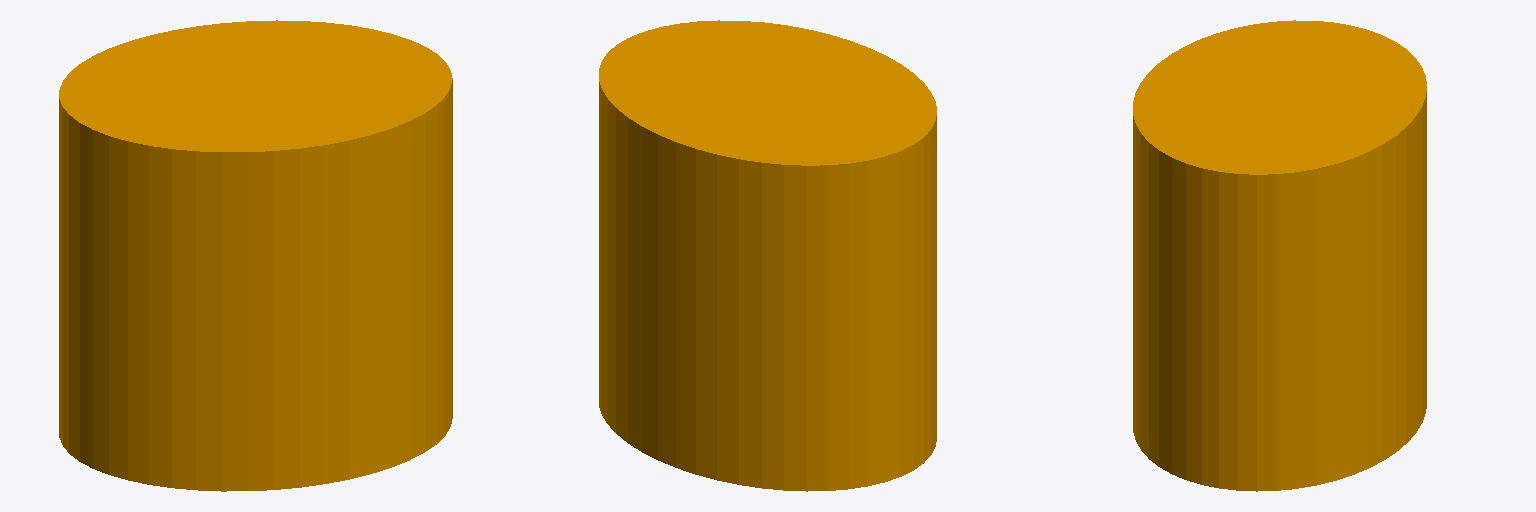
URDF robot description (object):
<?xml version="1.0"?>
<robot name="object">
  <link name="object">
    <visual>
      <origin xyz="0 0 0"/>
      <geometry>
        <mesh filename="meshes/generated/col_124.obj" scale="0.03 0.03 0.03"/>
      </geometry>
    </visual>
    <collision>
      <origin xyz="0 0 0"/>
      <geometry>
        <mesh filename="meshes/generated/col_124.obj" scale="0.03 0.03 0.03"/>
      </geometry>
    </collision>
    <inertial>
      <density value="1000.0"/>
    </inertial>
  </link>
</robot>

--- What the picture shows (computed from the rendered views, not written in the file) ---
3 views of the same robot in one strip: view 1: azimuth 30°, elevation 25°; view 2: azimuth 150°, elevation 25°; view 3: azimuth 270°, elevation 25° (orthographic).
Robot: object — 1 links, 0 joints (none); root link object; default pose: all joints at 0.
Visible links, largest first — view 1: object; view 2: object; view 3: object.
Boxes of the visible links, box(x1,y1,x2,y2) form: object: box(59, 20, 452, 491); object: box(599, 20, 936, 491); object: box(1133, 20, 1426, 491).
Size in the robot's own frame: 0.0627 by 0.0505 by 0.06 metres.
Meshes: 1 distinct files referenced, 1 mesh visuals loaded (1 OBJ).
